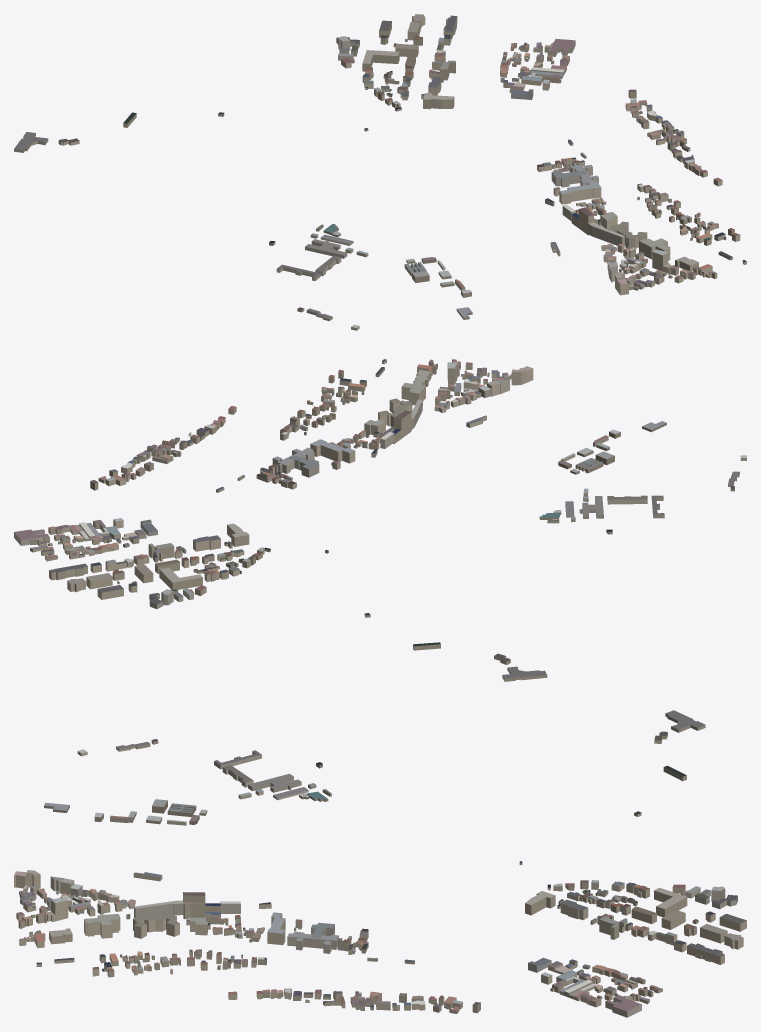
3 views of the same model, one above another, from view 1: azimuth 30°, elevation 25°; view 2: azimuth 150°, elevation 25°; view 3: azimuth 270°, elevation 25° (orthographic). The views are drawn at different scales.
Visible parts, largest first — view 1: tuile; view 2: tuile; view 3: tuile.
Part boxes in pixels (bbox=[...]): tuile: bbox=[14, 14, 746, 330]; tuile: bbox=[14, 359, 746, 681]; tuile: bbox=[14, 710, 746, 1017].
Size of the model in its own units: 968 by 42.16 by 1025.
